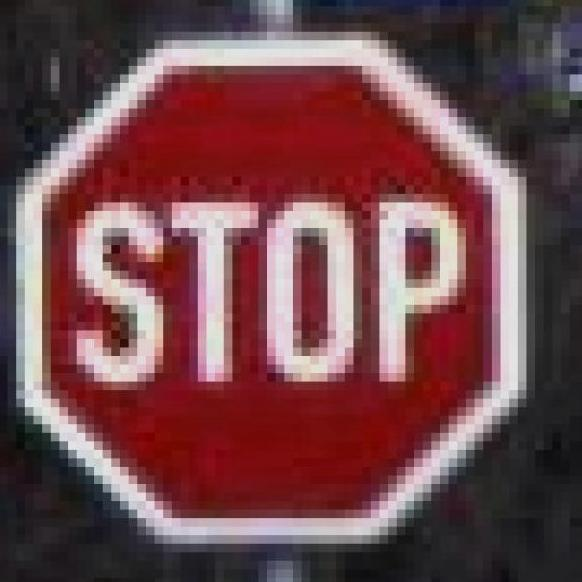stop_sign: (12, 31, 531, 552)
